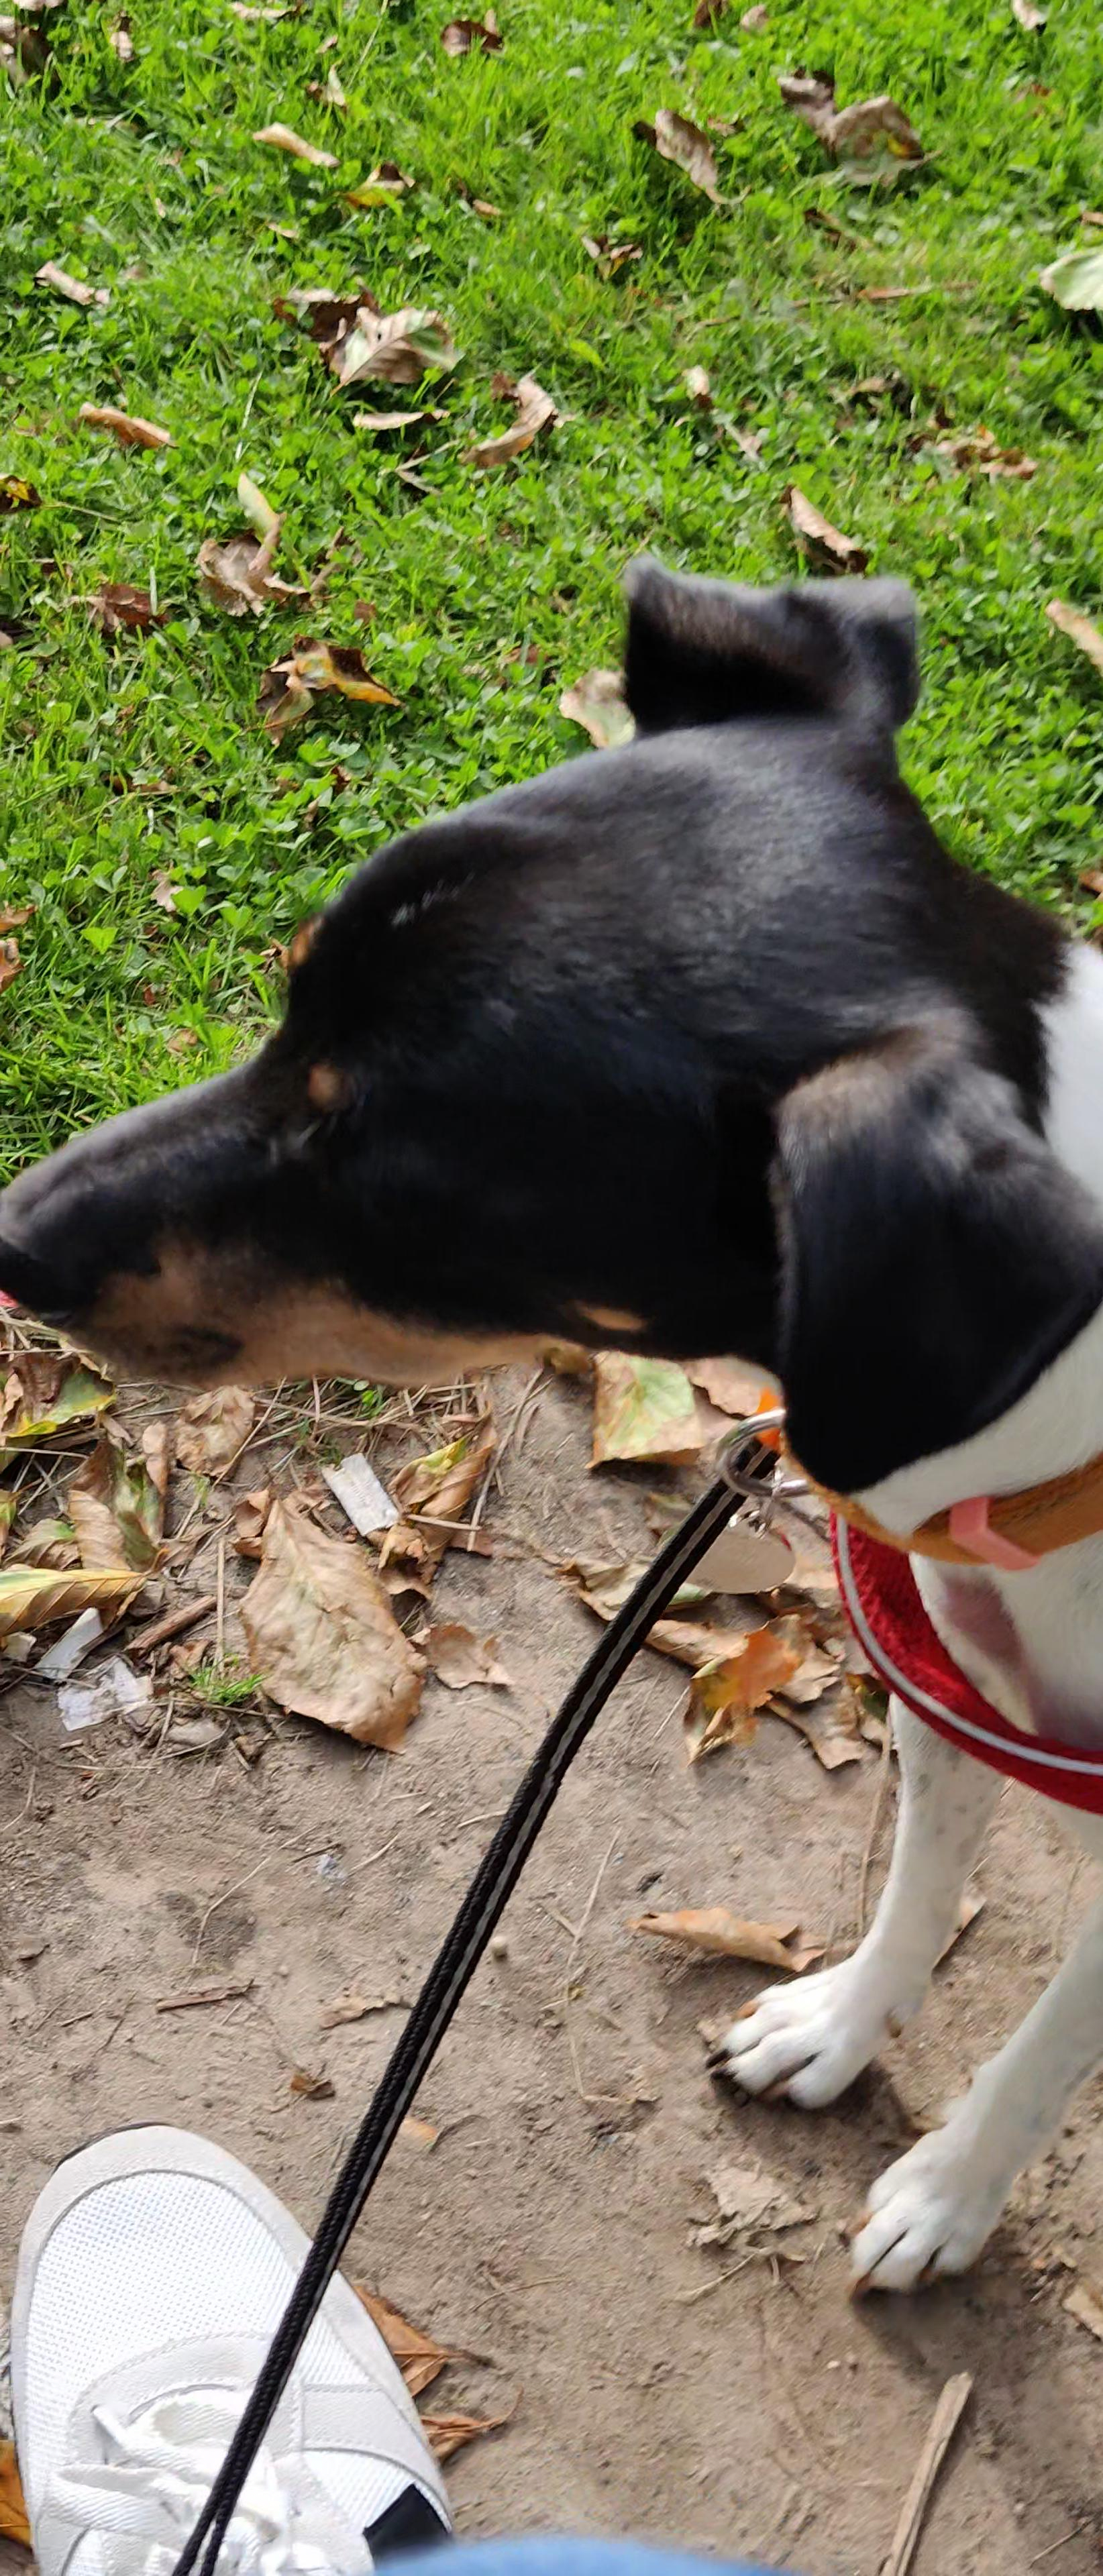Dog: (0, 527, 1103, 2331)
